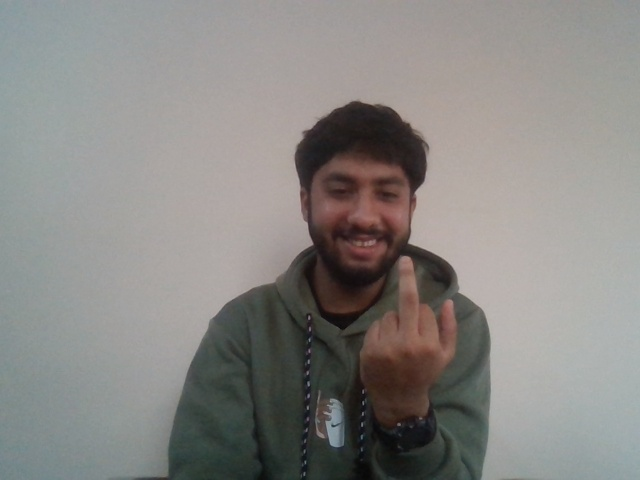Hello: (353, 253, 466, 396)
